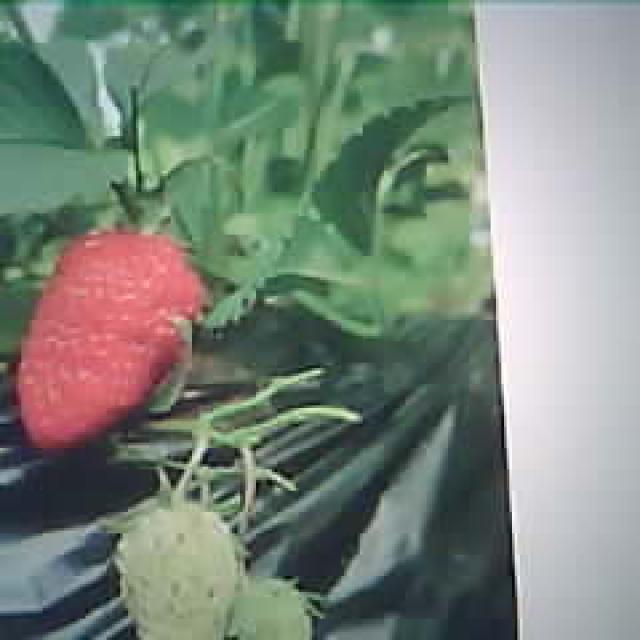ripe: (18, 230, 200, 446)
unripe: (119, 498, 241, 640), (232, 579, 314, 640)
